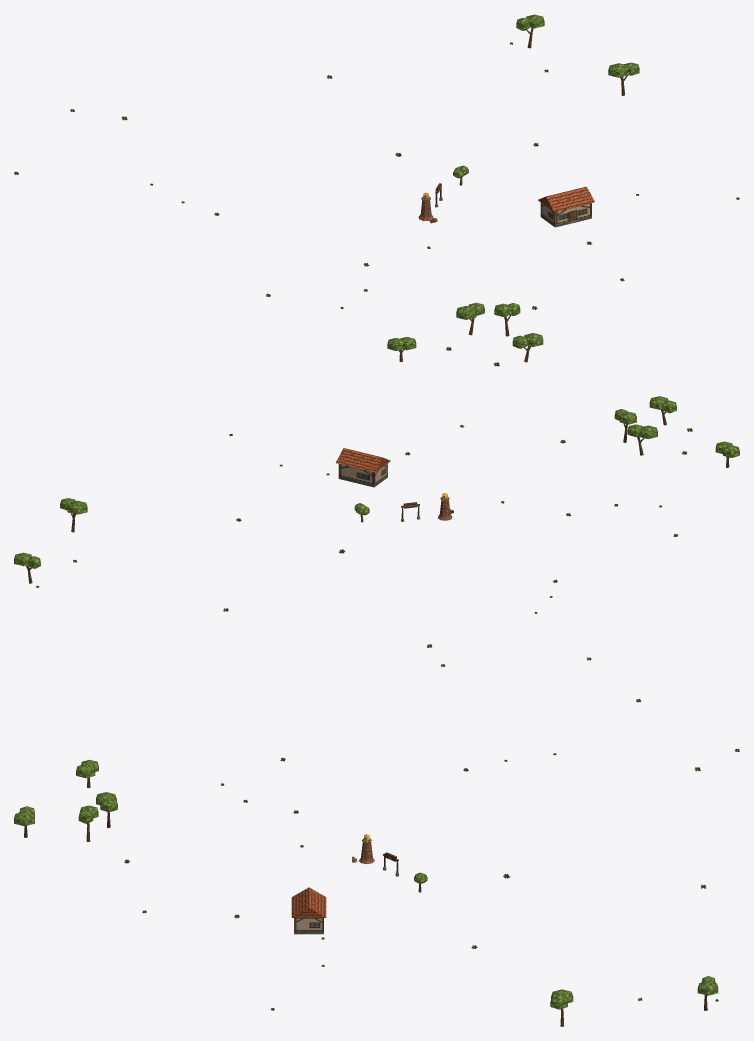
The model's file is FieldCell_0_3.fbx.
3 renders of one model, top to bottom at view 1: azimuth 30°, elevation 25°; view 2: azimuth 150°, elevation 25°; view 3: azimuth 270°, elevation 25°, orthographic. The views are drawn at different scales.
Visible parts, largest first — view 1: FieldCell_0_3; view 2: FieldCell_0_3; view 3: FieldCell_0_3.
Part boxes in pixels (left/top/right/bottom): FieldCell_0_3: left=387, top=14, right=639, bottom=362; FieldCell_0_3: left=14, top=396, right=739, bottom=583; FieldCell_0_3: left=14, top=759, right=718, bottom=1026.
Bounding box in the file's own units: 14642 × 999 × 15043.
